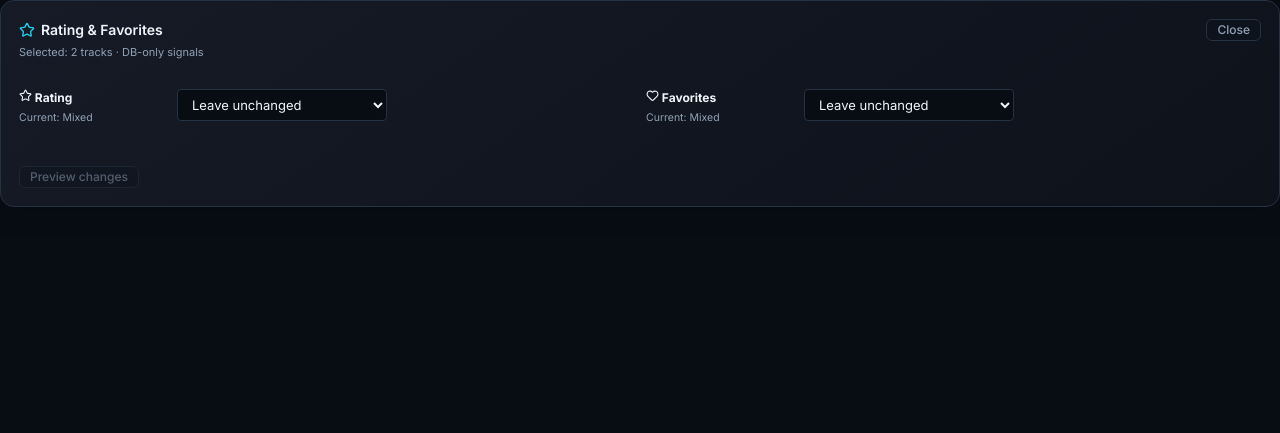
BulkRatingFavoriteEditor › shows mixed state and explicit preview counts before apply
This screenshot has width=1280, height=433.
Expected: the text "Current: Mixed" is shown 2 times, x1=19 y1=110 x2=93 y2=124; x1=646 y1=110 x2=720 y2=124
Select "Set rating" in the dropdown labelled "Rating" at point(282, 104), box x1=177 y1=88 x2=387 y2=120
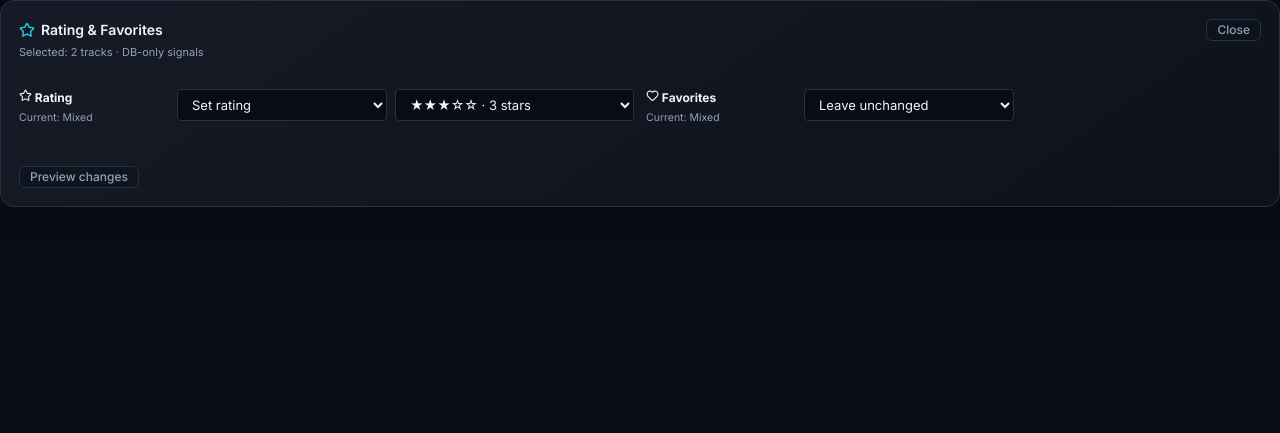
Select "★★★★☆ · 4 stars" in the dropdown named "Rating to set" at point(514, 104), box x1=395 y1=88 x2=634 y2=120
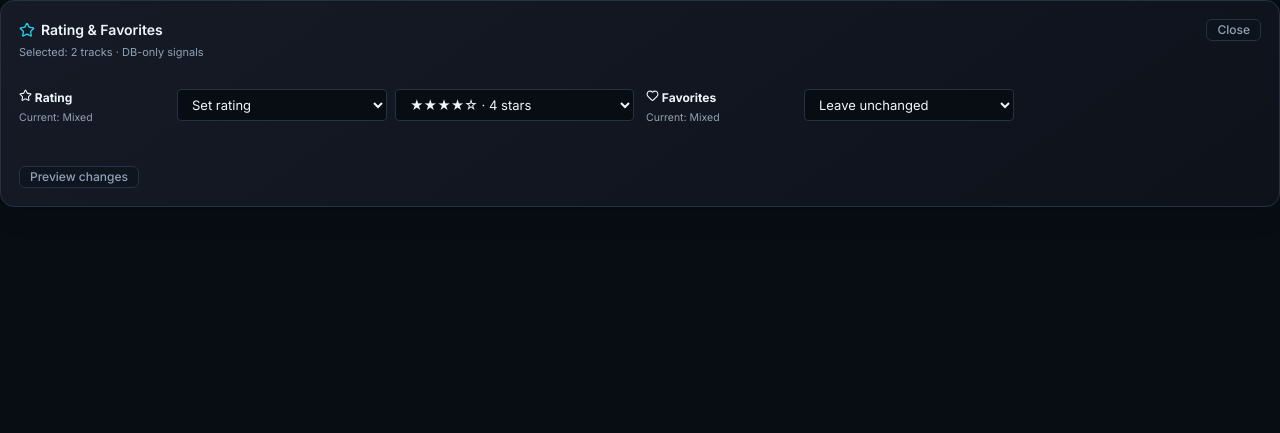
Select "Add all to Favorites" in the dropdown labelled "Favorites" at point(909, 104), box x1=804 y1=88 x2=1014 y2=120
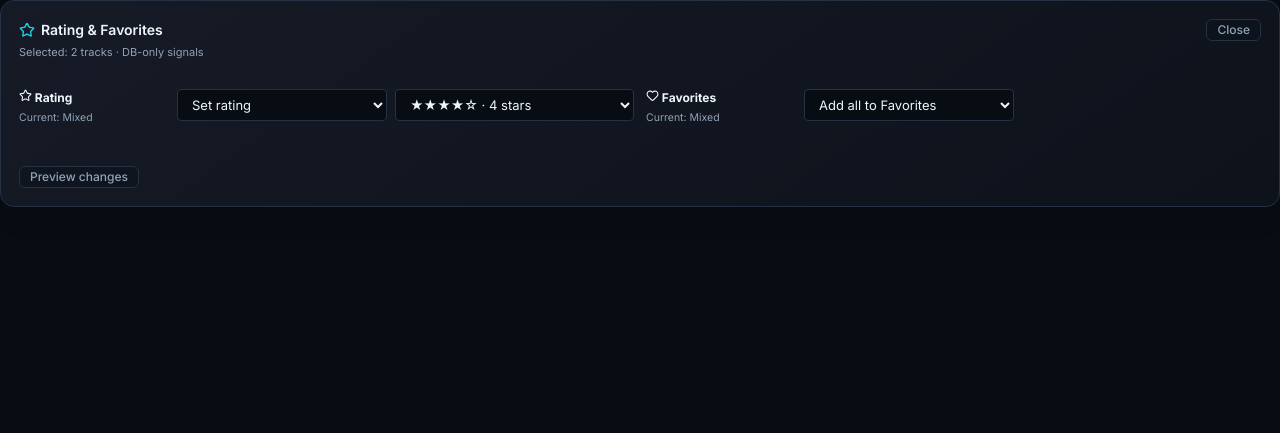
Click the button "Preview changes" at point(79, 177), box x1=19 y1=166 x2=139 y2=188
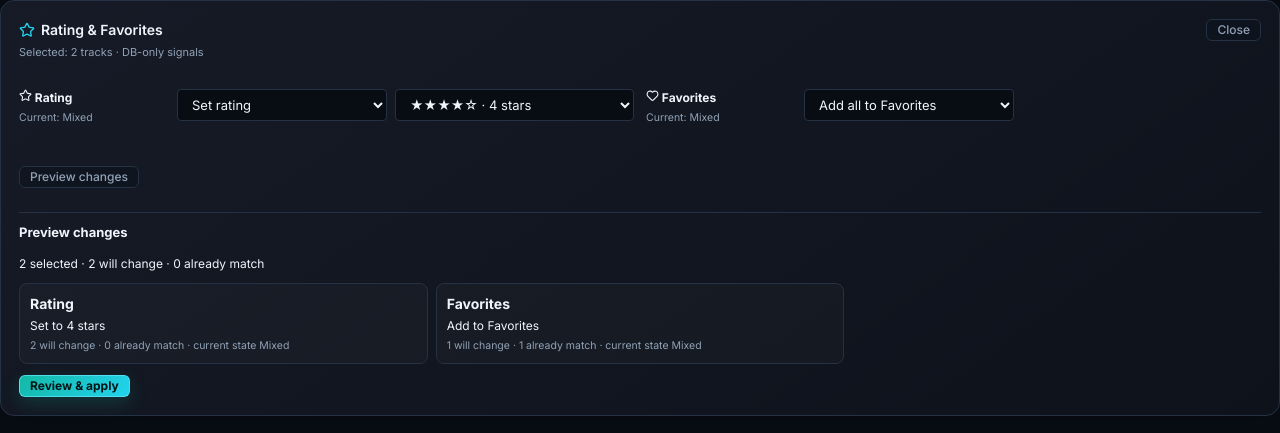
Expected: the text "Set to 4 stars" is shown, x1=30 y1=318 x2=105 y2=333
